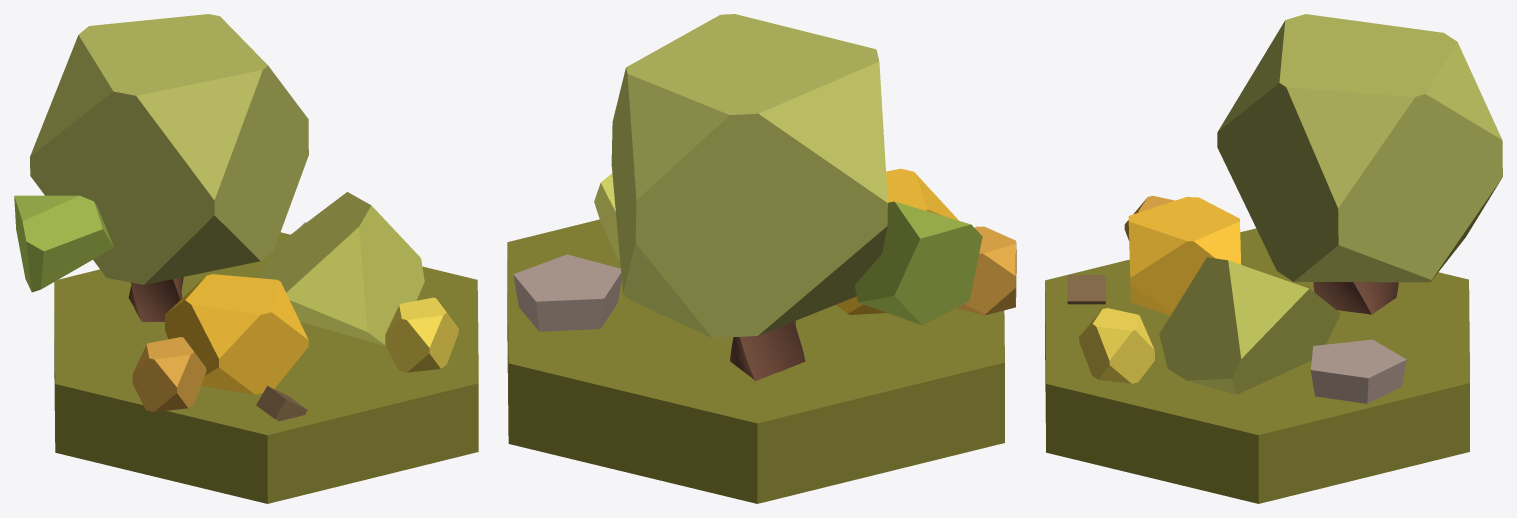
The picture shows the model from 3 angles, left to right: view 1: azimuth 30°, elevation 25°; view 2: azimuth 150°, elevation 25°; view 3: azimuth 270°, elevation 25°; orthographic projection. The views are drawn at different scales.
Visible parts, largest first — view 1: 物件_17, 物件_5, 物件_9, 物件_15, 物件_1, 物件_13, 物件_7, 物件_3, 物件_11; view 2: 物件_17, 物件_5, 物件_1, 物件_19, 物件_13, 物件_3, 物件_15, 物件_9; view 3: 物件_5, 物件_17, 物件_9, 物件_15, 物件_19, 物件_7, 物件_3, 物件_11.
Part boxes in pixels (<box>): 物件_17: <box>54,232,478,503</box>; 物件_5: <box>30,14,308,284</box>; 物件_9: <box>258,192,424,345</box>; 物件_15: <box>165,274,308,394</box>; 物件_1: <box>14,195,113,292</box>; 物件_13: <box>132,337,206,411</box>; 物件_7: <box>385,297,458,372</box>; 物件_3: <box>128,277,183,321</box>; 物件_11: <box>256,386,307,421</box>; 物件_17: <box>507,219,1004,503</box>; 物件_5: <box>611,14,887,338</box>; 物件_1: <box>854,201,982,325</box>; 物件_19: <box>513,254,621,331</box>; 物件_13: <box>956,226,1016,315</box>; 物件_3: <box>730,321,805,381</box>; 物件_15: <box>836,168,958,314</box>; 物件_9: <box>594,173,661,314</box>; 物件_5: <box>1217,14,1502,282</box>; 物件_17: <box>1045,228,1469,503</box>; 物件_9: <box>1159,257,1340,394</box>; 物件_15: <box>1128,197,1241,315</box>; 物件_19: <box>1310,339,1406,403</box>; 物件_7: <box>1079,308,1154,383</box>; 物件_3: <box>1313,282,1398,314</box>; 物件_11: <box>1067,275,1105,304</box>.
Size of the model in its own units: 130 by 121 by 94.04.
